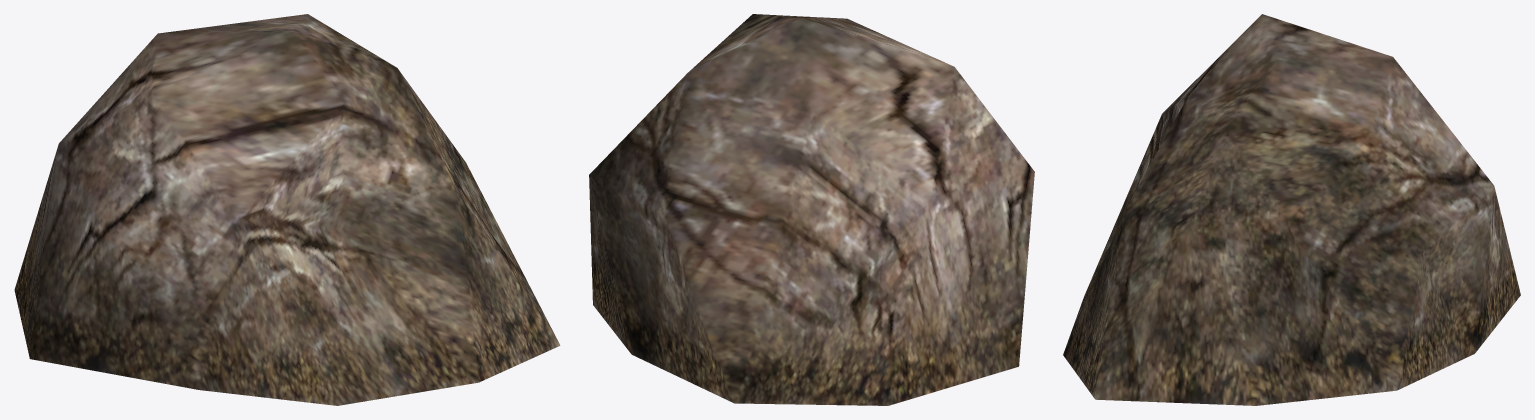
Rendered from hr_ps_stone1.glb.
3 renders of one model, left to right at view 1: azimuth 30°, elevation 25°; view 2: azimuth 150°, elevation 25°; view 3: azimuth 270°, elevation 25°, orthographic. The views are drawn at different scales.
Visible parts, largest first — view 1: hr_ps_stone1-col; view 2: hr_ps_stone1-col; view 3: hr_ps_stone1-col.
Part boxes in pixels (<box>): hr_ps_stone1-col: <box>14,14,560,405</box>; hr_ps_stone1-col: <box>589,14,1034,405</box>; hr_ps_stone1-col: <box>1063,14,1520,405</box>.
Size of the model in its own units: 1.32 by 0.8374 by 1.33.
Materials: 1 (1 with a texture image).
